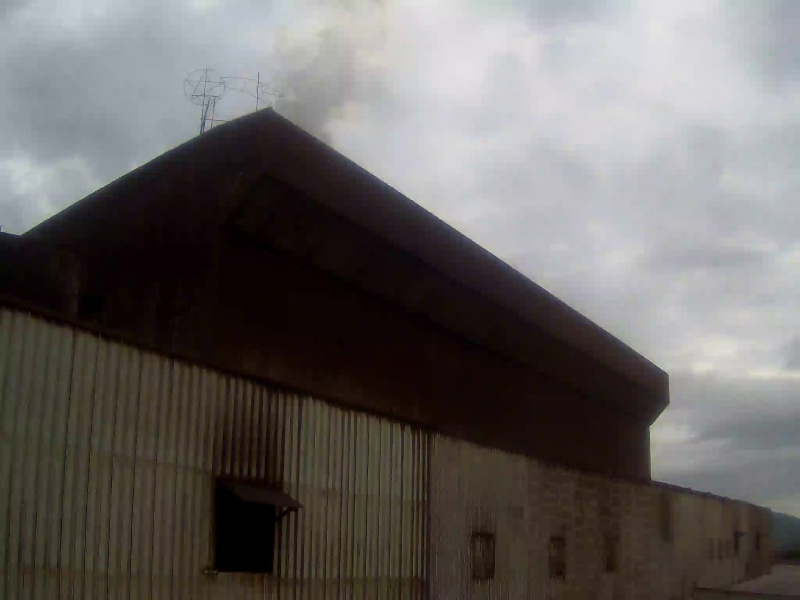bom: (14, 25, 268, 185), (634, 317, 800, 469)
ruim: (258, 8, 672, 387), (259, 11, 387, 151)
